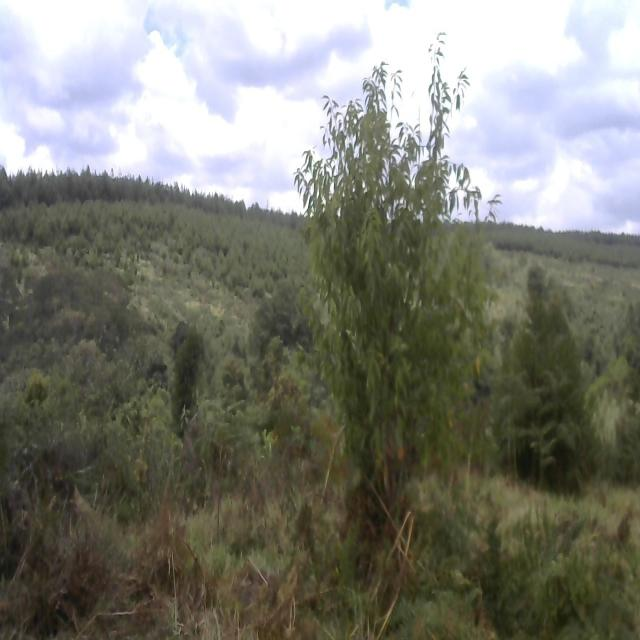other: (287, 29, 484, 539)
